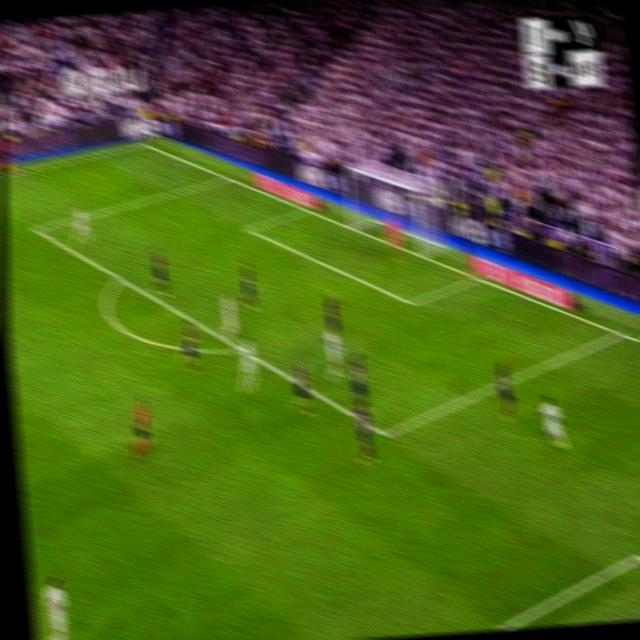bigarea_bottom_inner: (375, 420, 393, 448)
bigarea_bottom_outter: (611, 322, 628, 342)
bigarea_top_inner: (29, 219, 43, 238)
bigarea_top_outter: (219, 170, 232, 183)
corner: (138, 138, 148, 146)
smallarea_bottom_inner: (405, 292, 417, 312)
smallarea_bottom_outter: (468, 268, 482, 286)
smallarea_top_inner: (243, 220, 255, 234)
top_arc_area_intersection: (112, 268, 126, 288)
